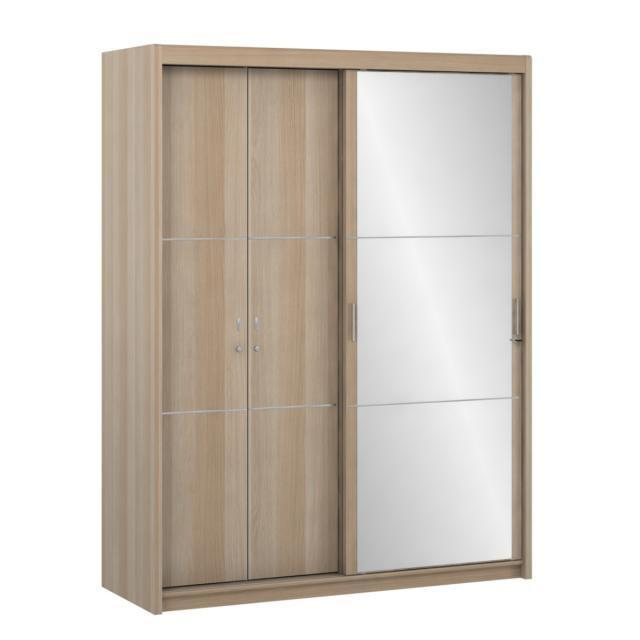Lemari: (149, 44, 532, 614)
